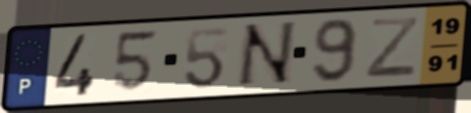4: (52, 32, 97, 98)
5: (110, 30, 161, 96), (182, 25, 232, 91)
9: (311, 17, 361, 85)
N: (232, 19, 300, 91)
Z: (362, 15, 421, 80)
